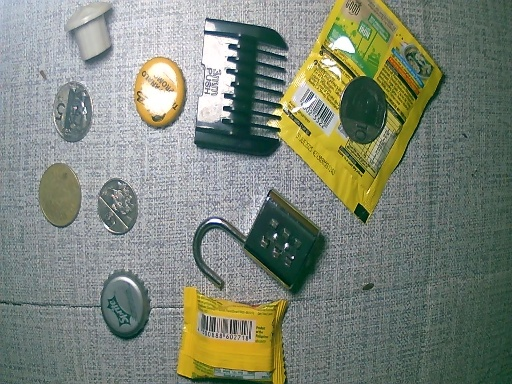metal: (190, 193, 325, 289), (133, 57, 186, 133), (339, 74, 385, 145), (99, 271, 147, 339), (37, 162, 79, 228), (51, 81, 92, 145), (95, 177, 137, 238)
plastic: (267, 1, 446, 219), (177, 287, 291, 384)
trash: (194, 17, 288, 162), (65, 1, 116, 62)
